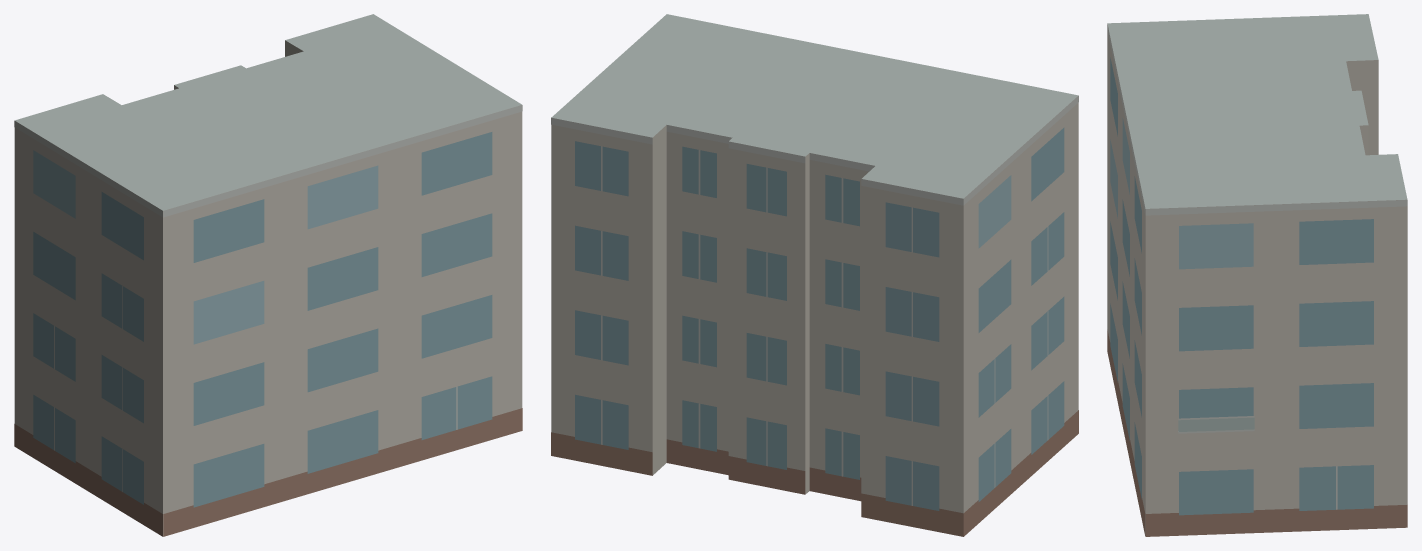
File: survey-upis-32627299.glb
3 renders of one model, left to right at view 1: azimuth 30°, elevation 25°; view 2: azimuth 150°, elevation 25°; view 3: azimuth 270°, elevation 25°, orthographic. The views are drawn at different scales.
Visible parts, largest first — view 1: survey-upis-32627299.tmp; view 2: survey-upis-32627299.tmp; view 3: survey-upis-32627299.tmp.
Part boxes in pixels (<box>): survey-upis-32627299.tmp: <box>14,14,522,536</box>; survey-upis-32627299.tmp: <box>551,14,1078,536</box>; survey-upis-32627299.tmp: <box>1107,14,1407,536</box>.
Size of the model in its own units: 15.18 by 11.9 by 9.88.
